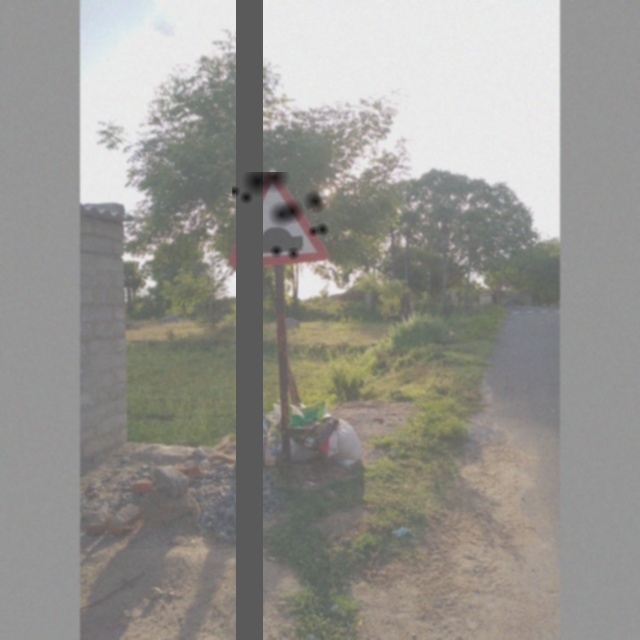Hump_or_Rough_Road: (232, 172, 329, 268)
